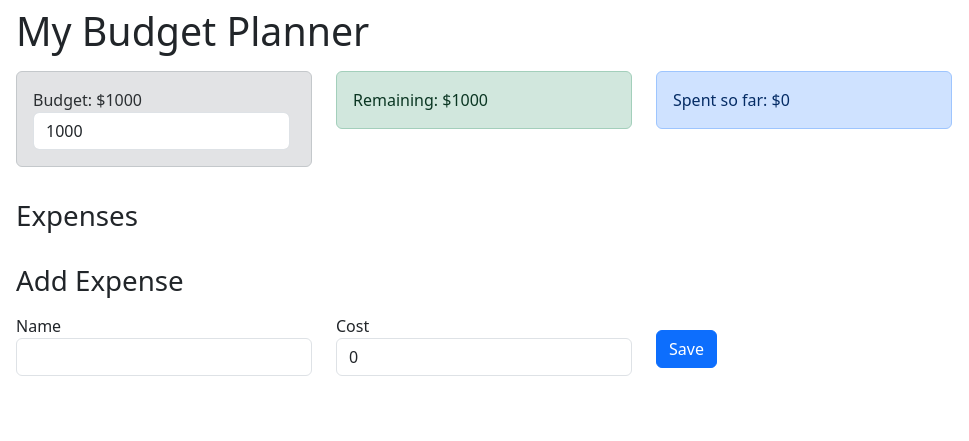
Test: My Budget Tracker › expense deletion
Type "Luxury Car" into the field with test id "name-input" at (164, 357), box 16,338 -> 312,376
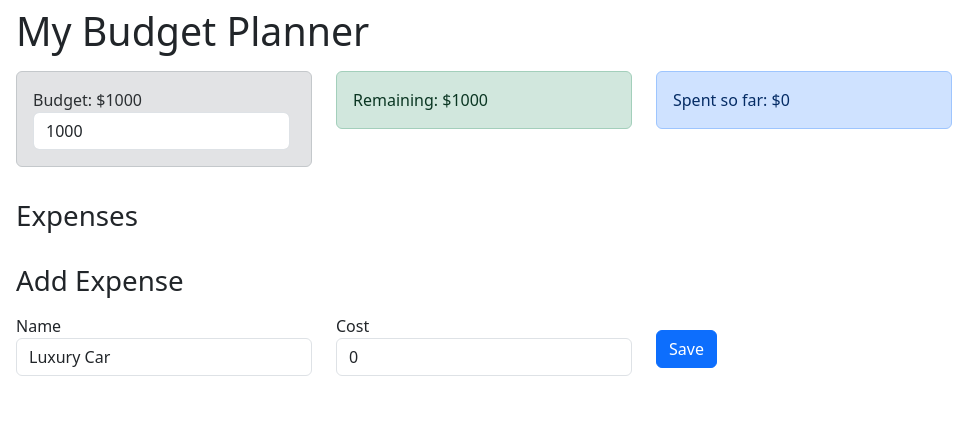
Replace the text in the field with test id "cost-input" with "100000" at (484, 357), box 336,338 -> 632,376
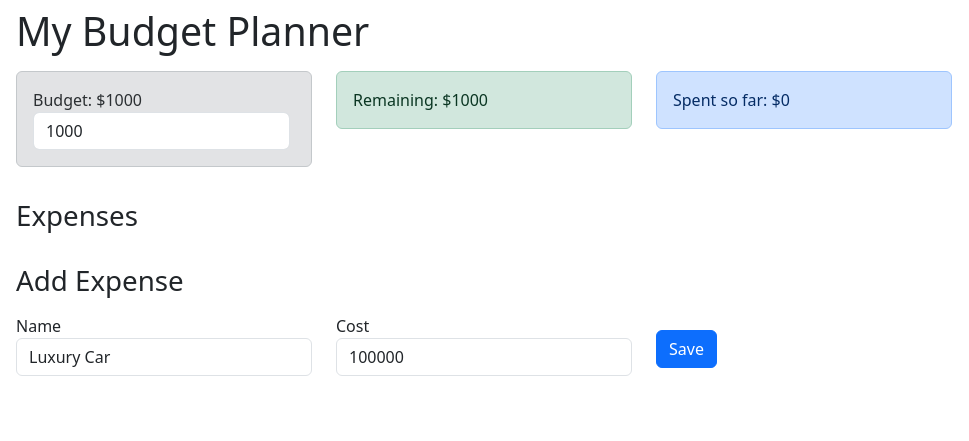
Click the button with test id "save-button" at (686, 349), box 656,330 -> 717,368
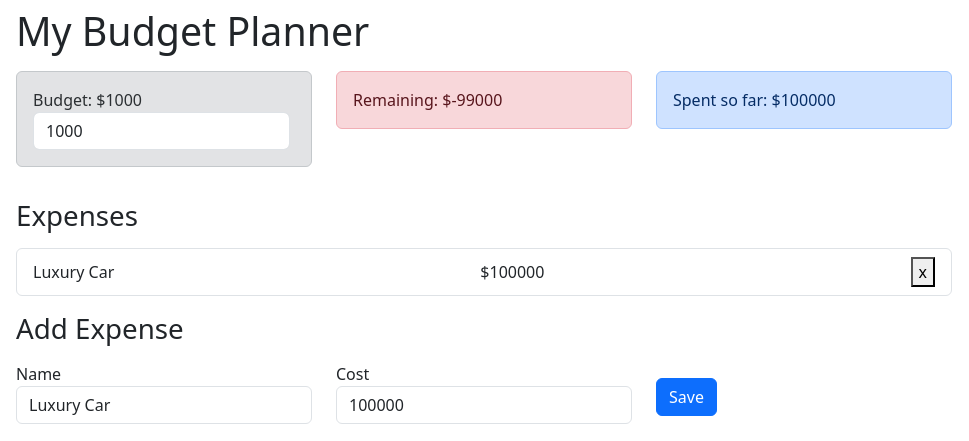
Click the button "x" at (923, 272), box 910,257 -> 935,287
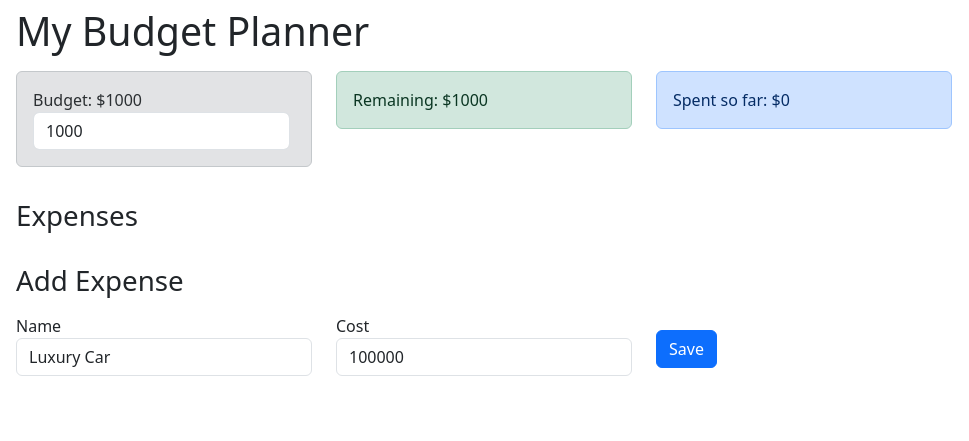
Now the text "$100000" is gone
Now the text "Remaining: $1000" is shown, box 353,89 -> 488,111
Now the text "Spent so far: $0" is shown, box 673,89 -> 790,111
